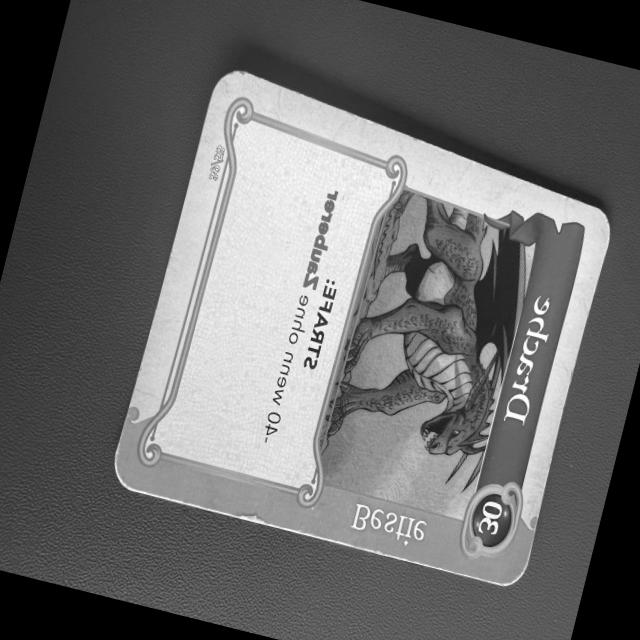Dragon: (102, 64, 615, 597)
